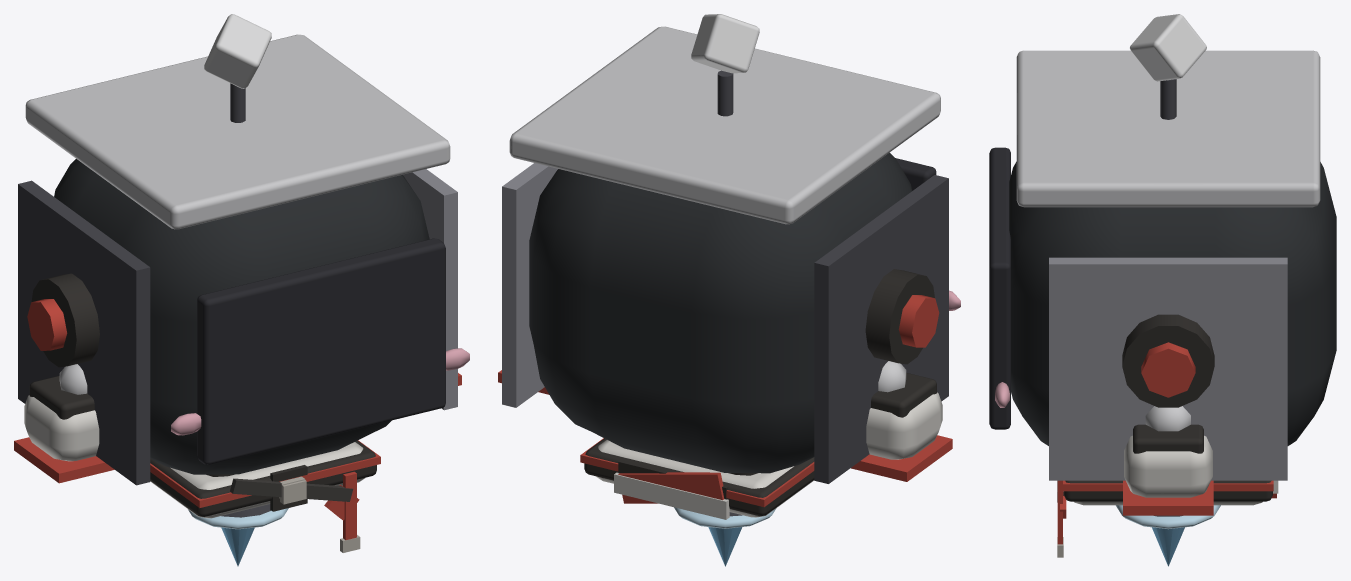
File: cursor-v1-rigged-meshopt.glb
3 renders of one model, left to right at view 1: azimuth 30°, elevation 25°; view 2: azimuth 150°, elevation 25°; view 3: azimuth 270°, elevation 25°, orthographic.
Parts seen in each view (by area): view 1: head-mesh, face-mesh, body-mesh, armR-mesh, antenna-mesh, extra-mesh; view 2: head-mesh, body-mesh, armR-mesh, antenna-mesh, extra-mesh, face-mesh; view 3: head-mesh, armL-mesh, face-mesh, antenna-mesh, body-mesh, extra-mesh.
Part boxes in pixels (x1,y1,x2,y2): head-mesh: (18, 34, 469, 485); face-mesh: (197, 238, 445, 464); body-mesh: (150, 440, 380, 552); armR-mesh: (14, 364, 114, 483); antenna-mesh: (204, 14, 271, 122); extra-mesh: (188, 504, 288, 566); head-mesh: (502, 26, 960, 483); body-mesh: (580, 438, 814, 519); armR-mesh: (851, 361, 952, 481); antenna-mesh: (691, 14, 759, 116); extra-mesh: (674, 507, 776, 566); face-mesh: (895, 158, 936, 190); head-mesh: (995, 50, 1336, 480); armL-mesh: (1123, 406, 1213, 515); face-mesh: (989, 147, 1010, 429); antenna-mesh: (1130, 14, 1206, 119); body-mesh: (1057, 480, 1278, 557); extra-mesh: (1116, 505, 1220, 566).
Bounding box in the file's own units: 1.05 × 1.37 × 0.7808.
